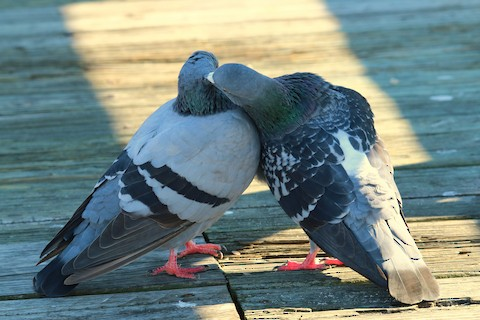pigeon: (29, 50, 265, 303), (208, 61, 445, 303)
